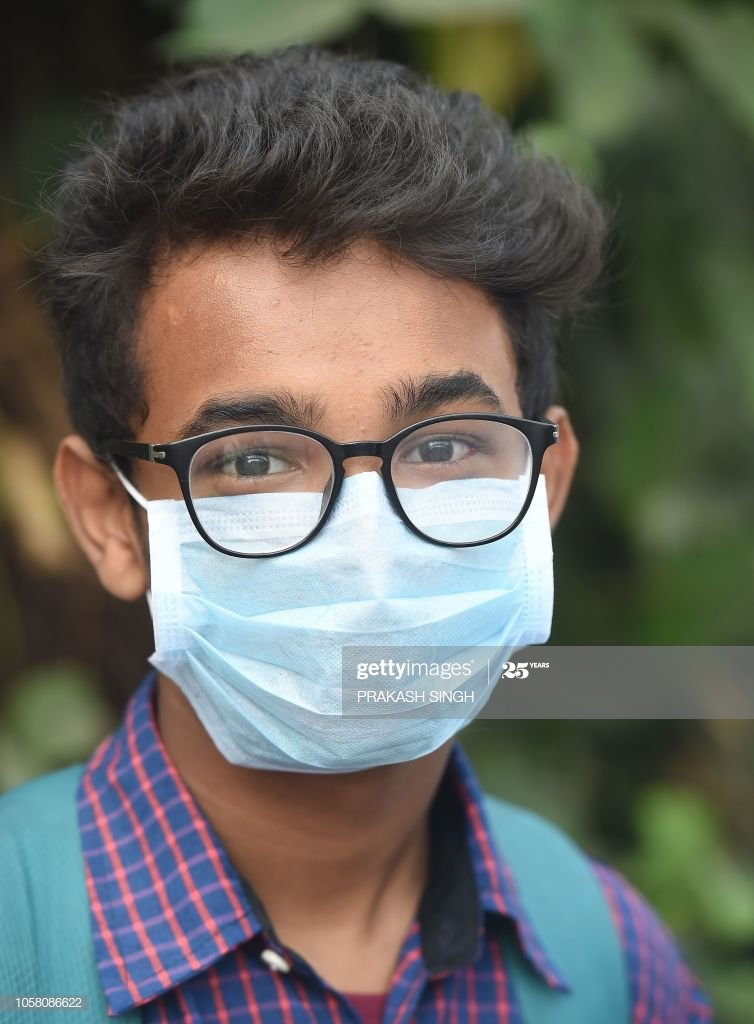mask: (27, 68, 600, 770)
